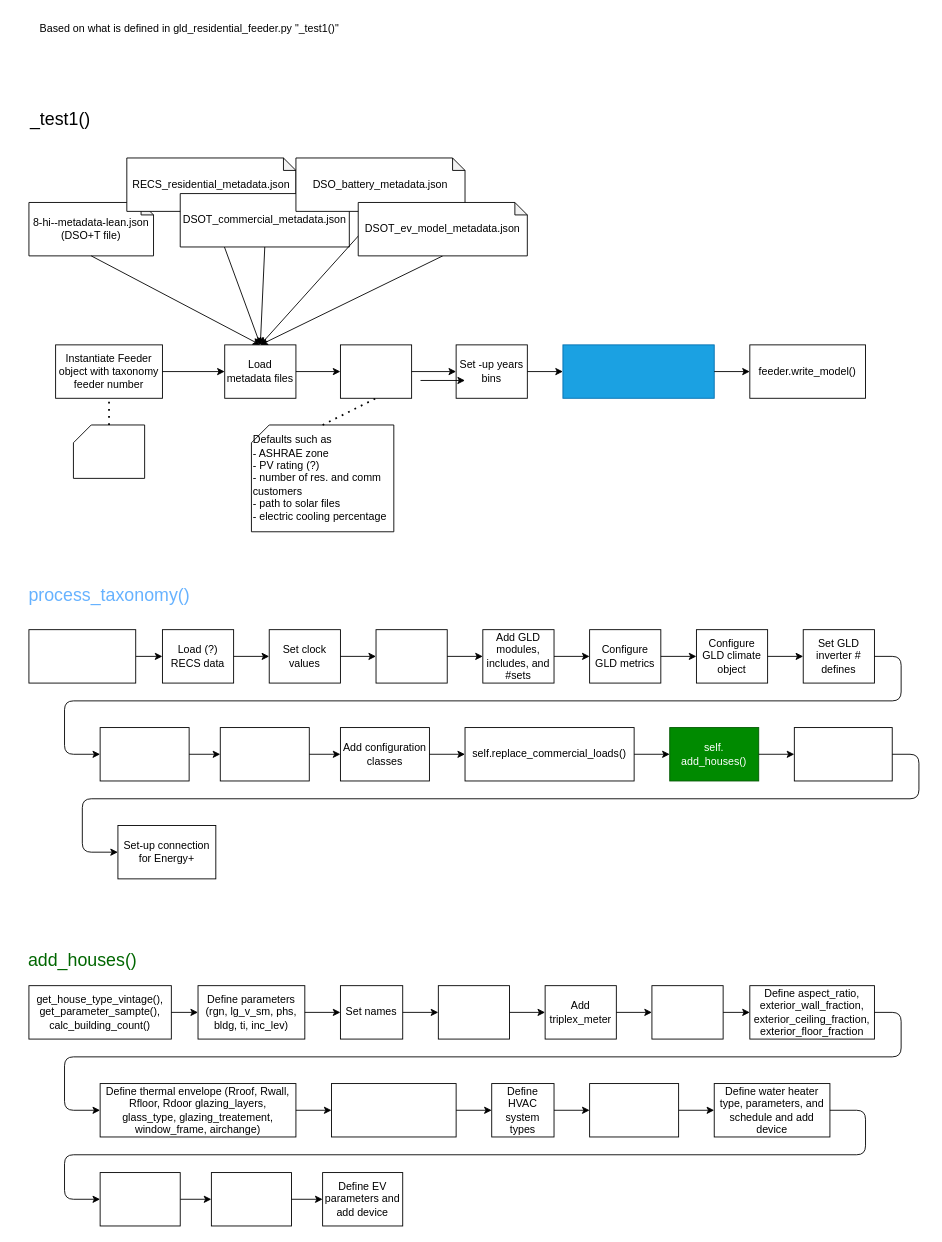
The diagram is 942 pixels wide and 1242 high, and some of its shapes have lost their labels. The centre of each missing label's shape, as x and y in pixels:
"Add responsive and unresponsive ZIP loads" goes at point (634, 1110).
"Add triplex_line" goes at point (473, 1012).
"Build graph of unpopulated feeder" goes at point (411, 656).
"Define building mass (mass_floor, mass_solar_gain_frac, mass_int_gain_frac)" goes at point (393, 1110).
"Define floor area, stories, ceiling_height" goes at point (687, 1012).
"Define paramters (rootname, vll, vln, avghouse, avgcomm)" goes at point (82, 656).
"Define solar parameters and add device" goes at point (139, 1199).
"Define storage parameters and add device" goes at point (250, 1199).
"feeder.process_taxonomy()" goes at point (638, 371).
"Loads in GLM defaults" goes at point (109, 451).
"Resize fuses to standard sizes" goes at point (264, 754).
"Resize transformers to standard sizes" goes at point (144, 754).
"self. add_small_loads()" goes at point (842, 754).
"Set more default values" goes at point (376, 371).
